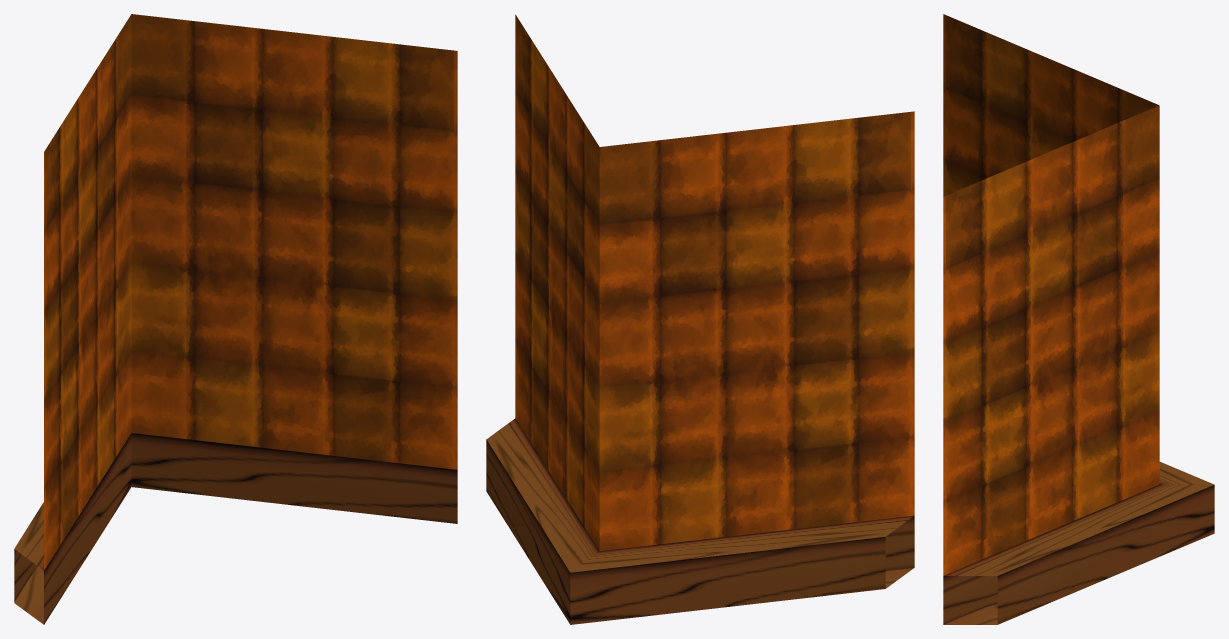
Rendered from MTile_30.fbx.
The picture shows the model from 3 angles, left to right: view 1: azimuth 30°, elevation 25°; view 2: azimuth 150°, elevation 25°; view 3: azimuth 270°, elevation 25°; orthographic projection. The views are drawn at different scales.
Parts seen in each view (by area): view 1: MTile_30; view 2: MTile_30; view 3: MTile_30.
Part boxes in pixels (x1,y1,x2,y2): MTile_30: [14, 14, 457, 624]; MTile_30: [486, 14, 914, 624]; MTile_30: [943, 14, 1214, 624].
Bounding box in the file's own units: 255 × 278 × 160.
